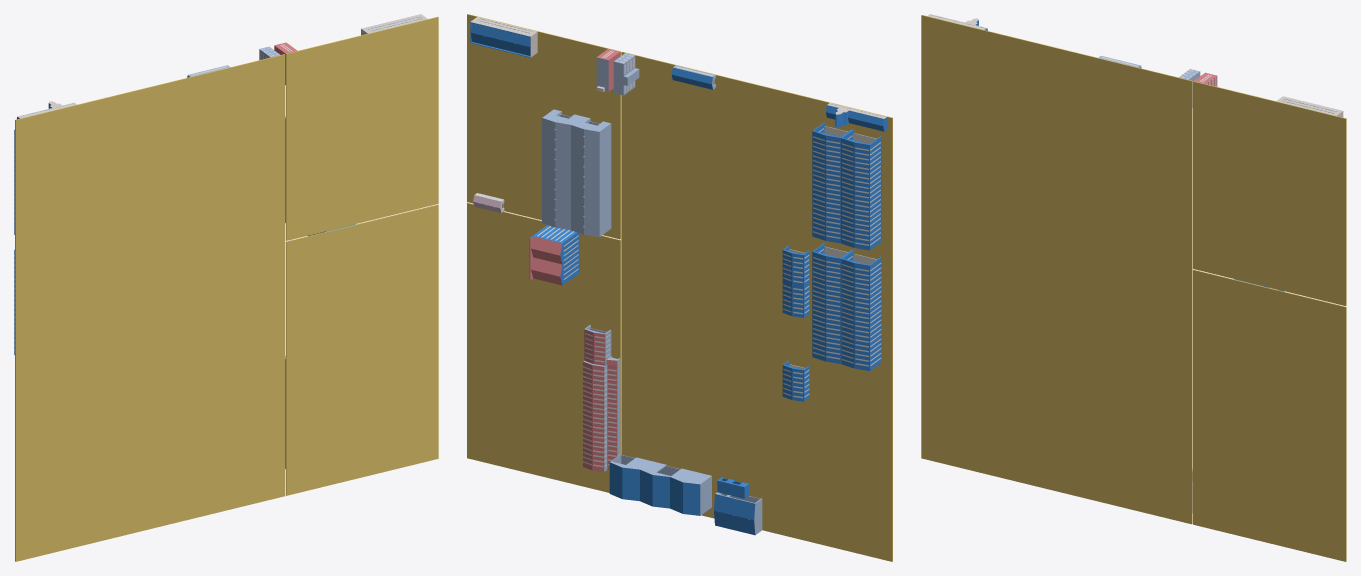
3 renders of one model, left to right at view 1: azimuth 30°, elevation 25°; view 2: azimuth 150°, elevation 25°; view 3: azimuth 330°, elevation 25°, orthographic.
Parts seen in each view (by area): view 1: 칸 어셈블리3 - 전체부지-1.001; view 2: 칸 어셈블리3 - 전체부지-1.001, 칸 어셈블리3 - C공장-1, 칸 어셈블리3 - D공장-1, 칸 어셈블리3 - B공장-4.002, 칸 어셈블리3 - B공장-4.003, 칸 어셈블리3 - E공장-1, 칸 어셈블리3 - B공장-4.001, 칸 어셈블리3 - D공장-2, 칸 어셈블리3 - B공장-4.004, 칸 어셈블리3 - F공장-1, 칸 어셈블리3 - H공장-1, 칸 어셈블리3 - J공장-1 (+7 smaller); view 3: 칸 어셈블리3 - 전체부지-1.001.
Part boxes in pixels (left/top/right/bottom): 칸 어셈블리3 - 전체부지-1.001: left=15, top=16, right=438, bottom=561; 칸 어셈블리3 - 전체부지-1.001: left=467, top=14, right=892, bottom=561; 칸 어셈블리3 - C공장-1: left=583, top=325, right=620, bottom=471; 칸 어셈블리3 - D공장-1: left=571, top=116, right=611, bottom=237; 칸 어셈블리3 - B공장-4.002: left=841, top=129, right=881, bottom=250; 칸 어셈블리3 - B공장-4.003: left=841, top=250, right=881, bottom=370; 칸 어셈블리3 - E공장-1: left=609, top=453, right=711, bottom=515; 칸 어셈블리3 - B공장-4.001: left=812, top=243, right=852, bottom=363; 칸 어셈블리3 - D공장-2: left=542, top=109, right=581, bottom=230; 칸 어셈블리3 - B공장-4.004: left=812, top=122, right=852, bottom=243; 칸 어셈블리3 - F공장-1: left=529, top=225, right=579, bottom=285; 칸 어셈블리3 - H공장-1: left=470, top=17, right=537, bottom=57; 칸 어셈블리3 - J공장-1: left=714, top=492, right=762, bottom=535; 칸 어셈블리3 - 전체부지-1.001: left=921, top=15, right=1346, bottom=561.
Bounding box in the file's own units: 48690 × 48575 × 4154.
